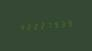four: (17, 22, 23, 32)
nine: (52, 19, 58, 29), (66, 18, 72, 28)
seven: (45, 20, 51, 30)
three: (59, 18, 65, 29)
two: (24, 21, 30, 32), (38, 20, 44, 31), (31, 21, 37, 31)
